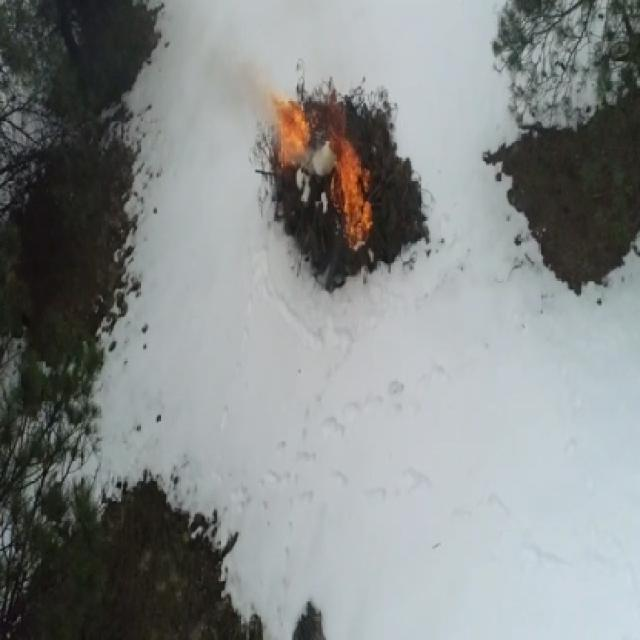Fire: (332, 148, 369, 248), (273, 99, 311, 164), (331, 103, 348, 147)
